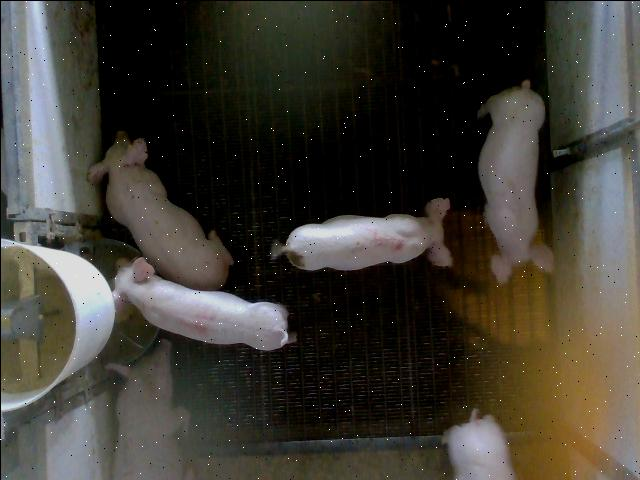pig-4: (112, 256, 289, 349)
pig-5: (271, 198, 451, 269)
